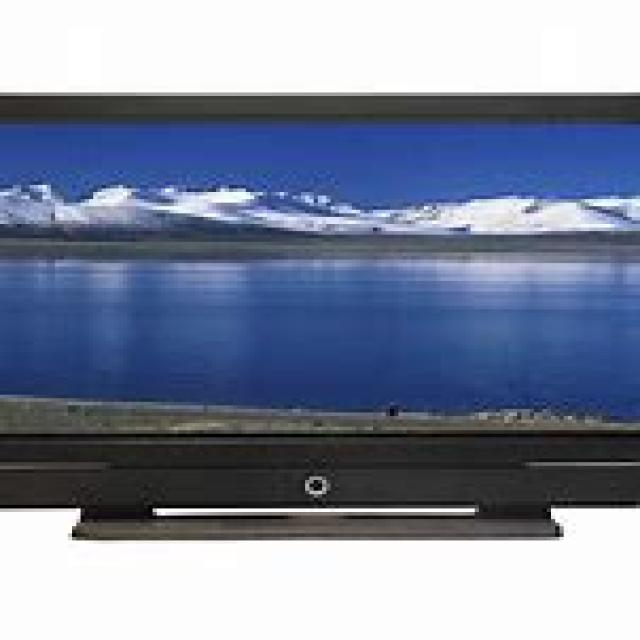tv: (0, 89, 636, 540)
